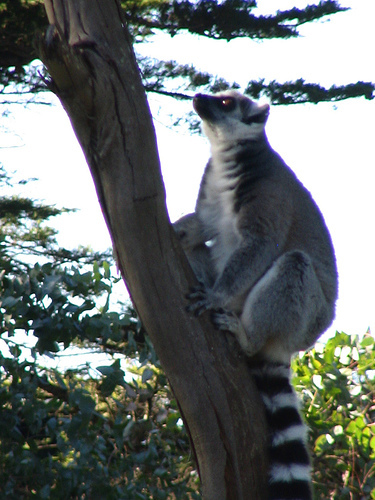cat: (172, 86, 338, 498)
